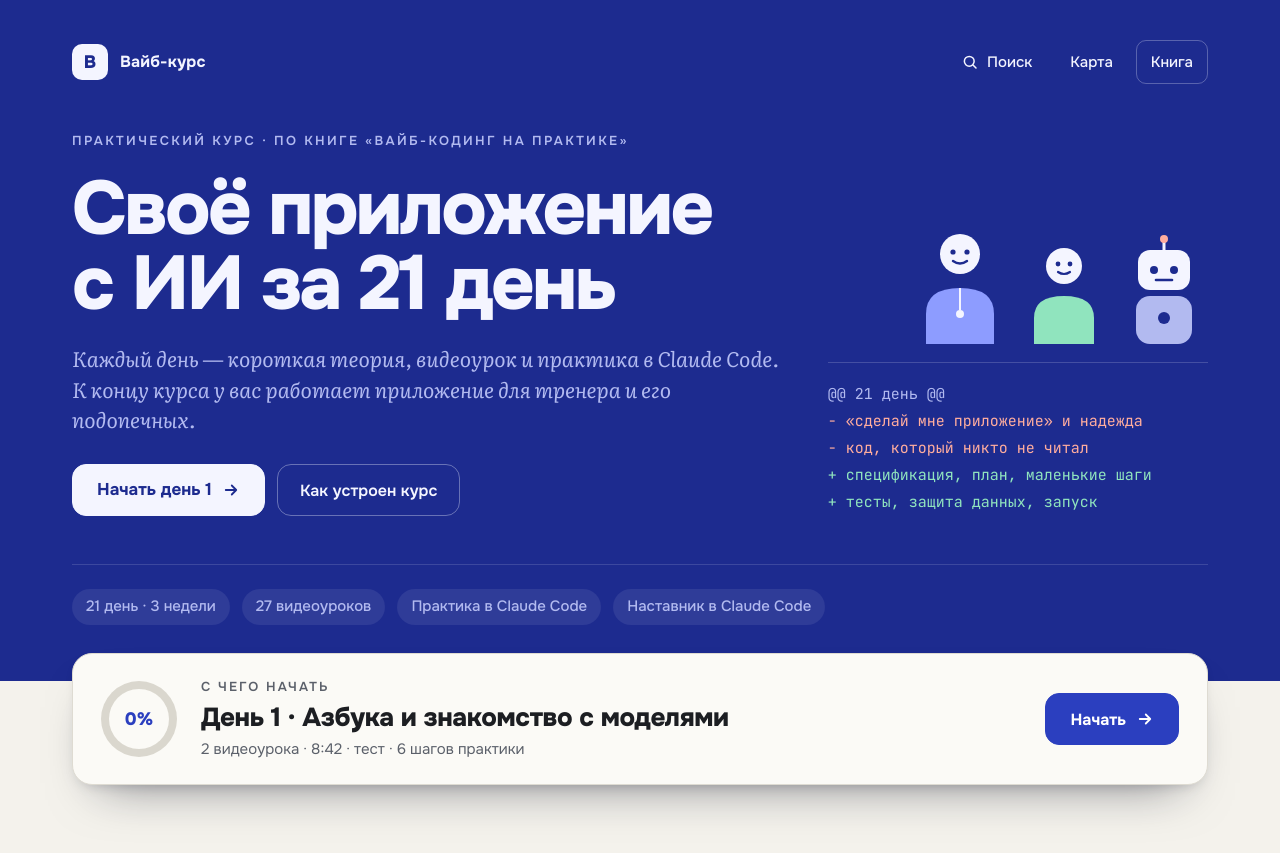
Scenario: окно поиска: открытие и закрытие › Esc закрывает окно и возвращает фокус на кнопку; прокрутка страницы под окном заблокирована, пока оно открыто
Click the button "Поиск": (997, 62) [946,40,1047,84]
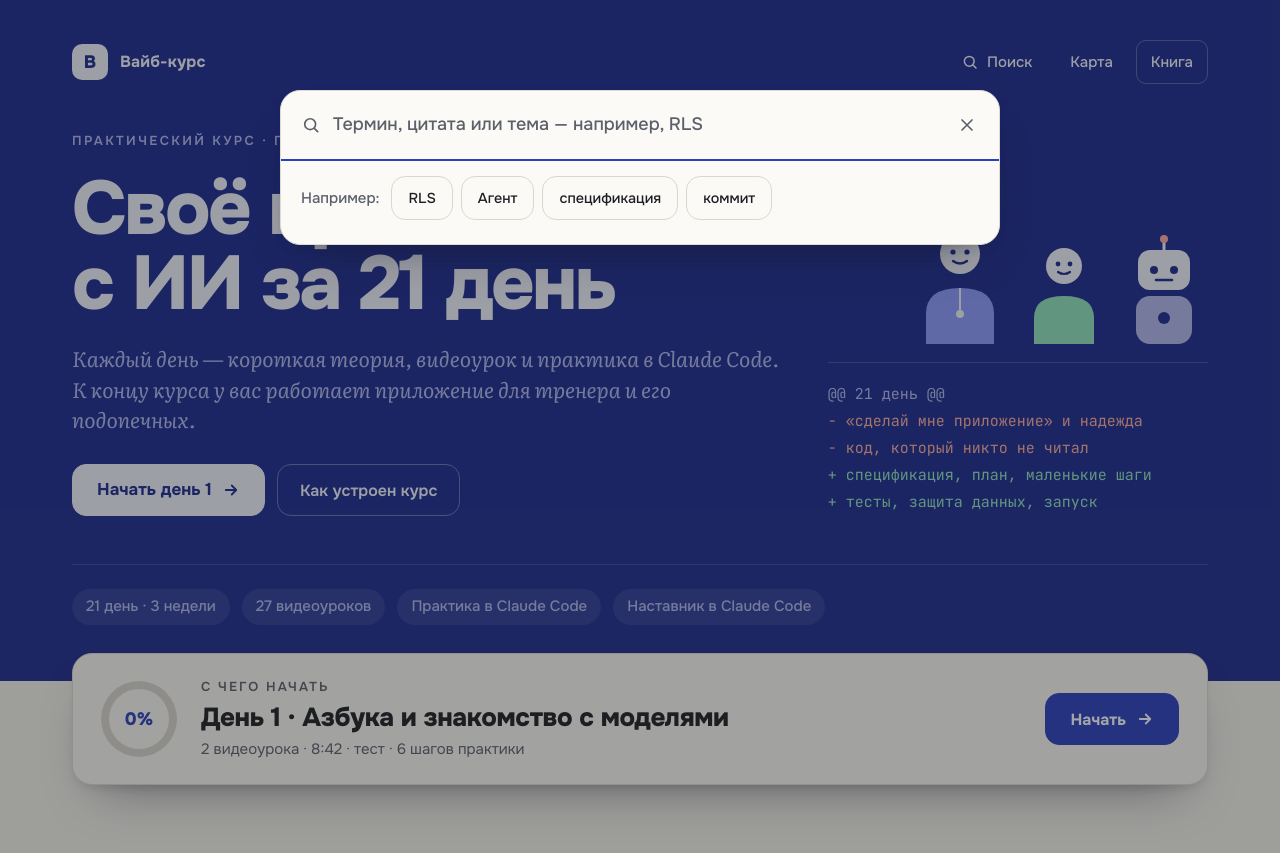
Press Escape
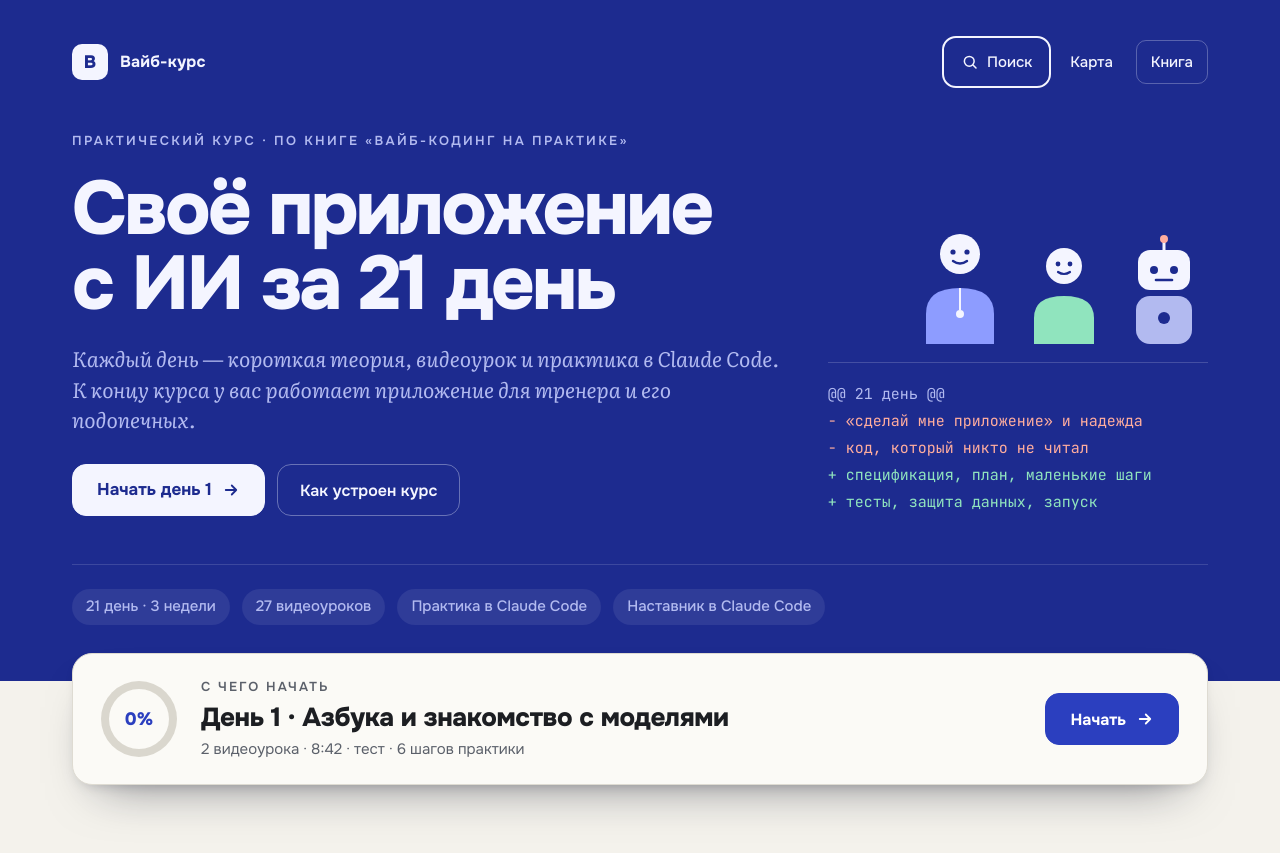
expect the dialog is gone: met
